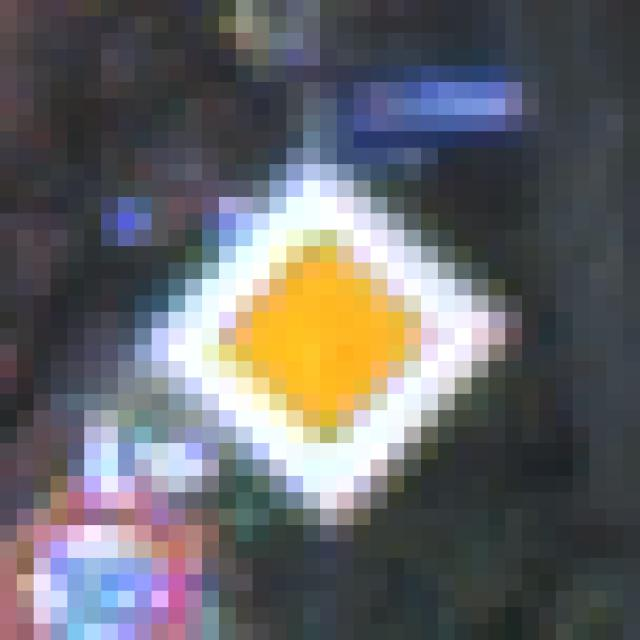Main Road: (85, 99, 557, 559)
